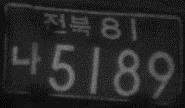1: (89, 44, 100, 95), (129, 15, 138, 43)
5: (47, 42, 75, 92)
8: (113, 49, 139, 96), (100, 15, 120, 40)
9: (147, 50, 175, 99)
나: (10, 40, 41, 75)
전북_O: (44, 10, 90, 37)
